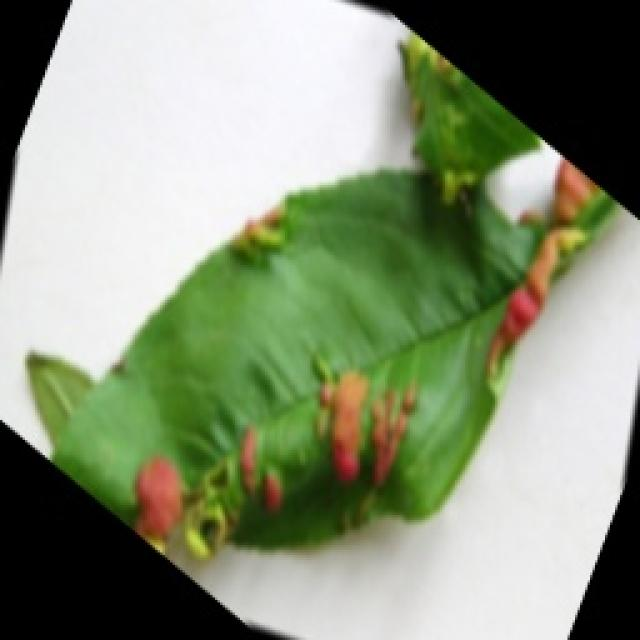peach_leaf_curl: (25, 30, 620, 562)
